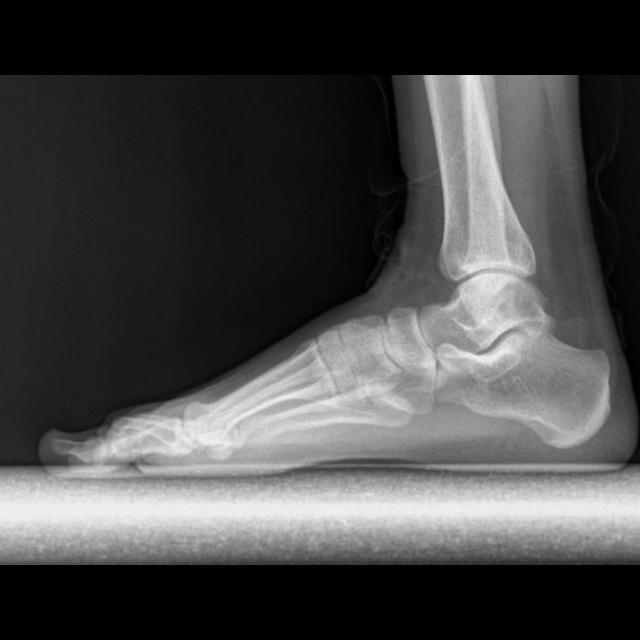a: (436, 326, 611, 449)
b: (386, 307, 437, 373)
c: (183, 338, 340, 446)
